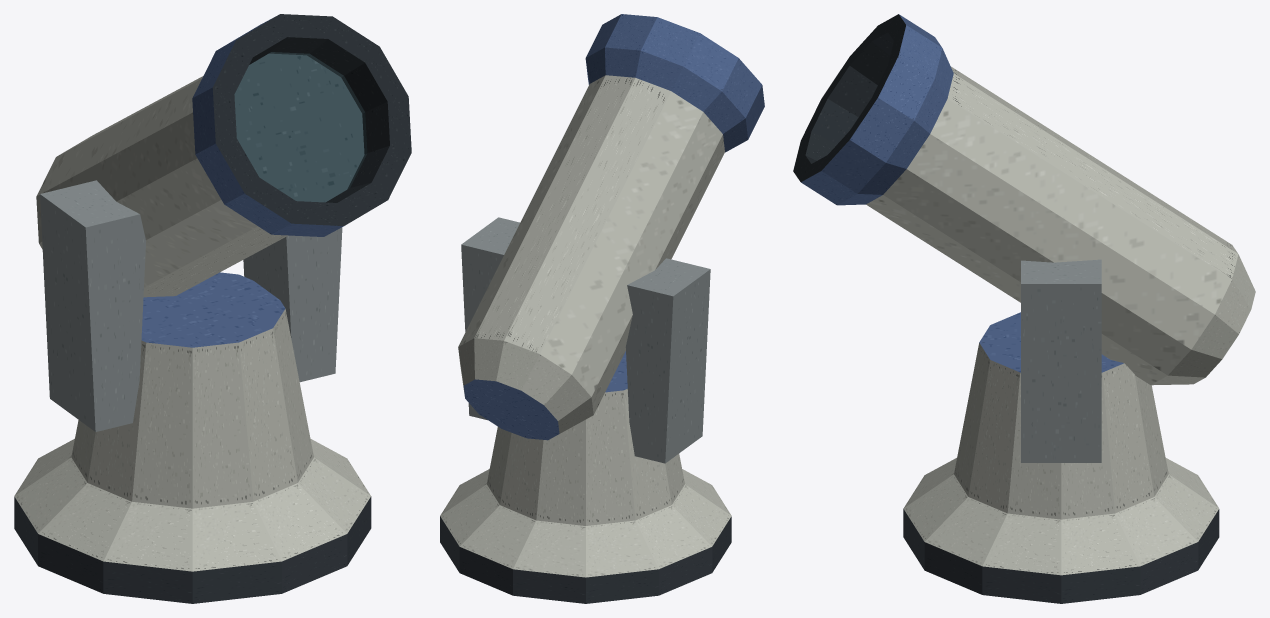
Rendered from ObservatoryInstrument.fbx.
3 renders of one model, left to right at view 1: azimuth 30°, elevation 25°; view 2: azimuth 150°, elevation 25°; view 3: azimuth 270°, elevation 25°, orthographic. The views are drawn at different scales.
Visible parts, largest first — view 1: ObservatoryInstrument; view 2: ObservatoryInstrument; view 3: ObservatoryInstrument.
Part boxes in pixels (x1,y1,x2,y2): ObservatoryInstrument: [14, 14, 411, 603]; ObservatoryInstrument: [440, 14, 764, 603]; ObservatoryInstrument: [793, 14, 1255, 603].
Size of the model in its own units: 250 by 447 by 366.
